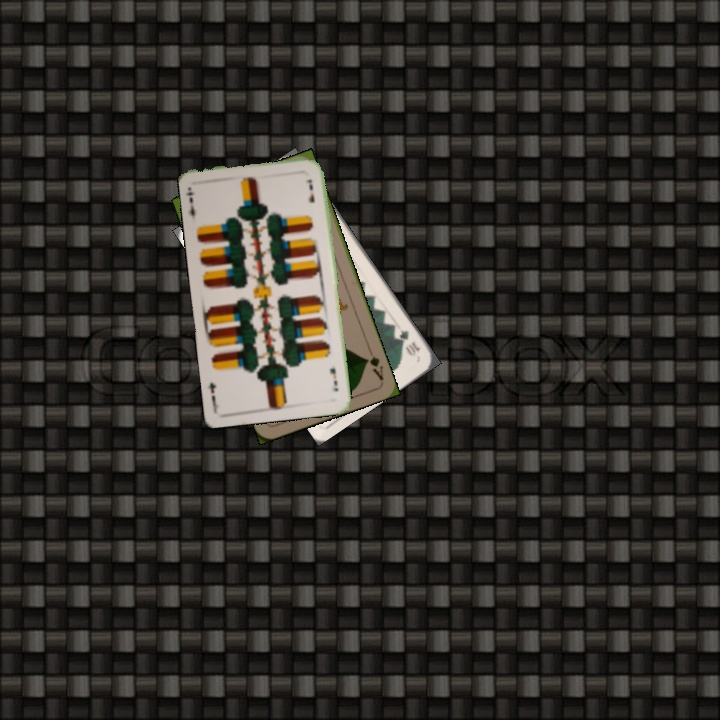E7: (183, 188, 198, 224), (325, 364, 341, 394)
G10: (395, 325, 423, 359)
GA: (361, 344, 386, 383)
